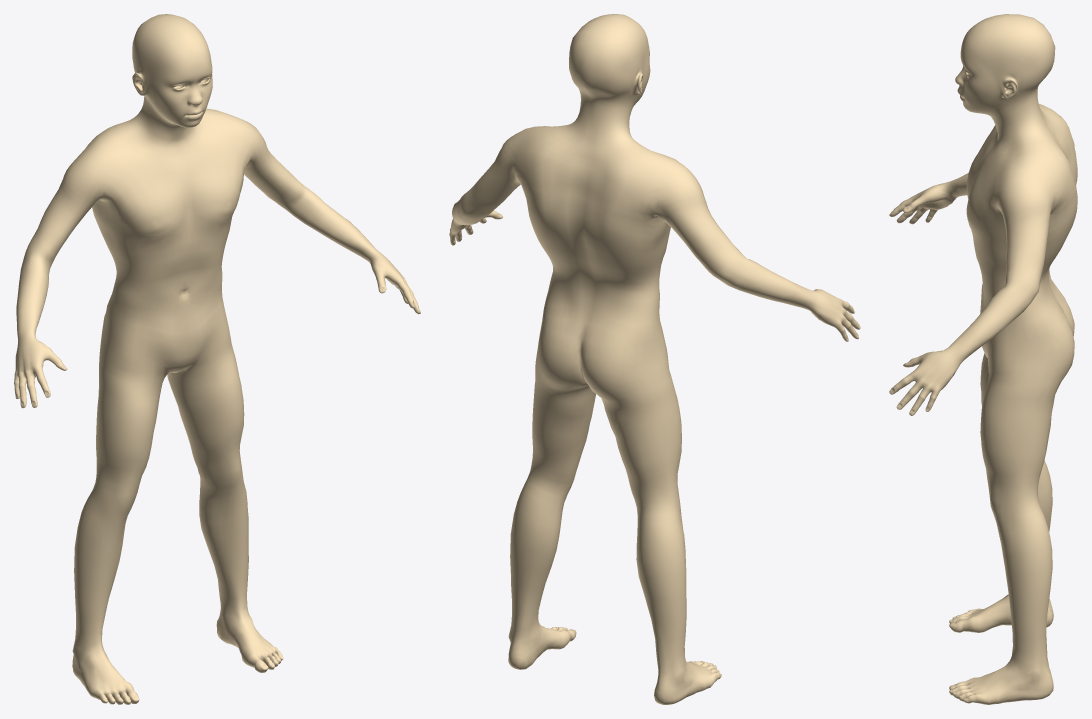
3 renders of one model, left to right at view 1: azimuth 30°, elevation 25°; view 2: azimuth 150°, elevation 25°; view 3: azimuth 270°, elevation 25°, orthographic.
Parts seen in each view (by area): view 1: Human; view 2: Human; view 3: Human.
Part boxes in pixels (box(x1,y1,x2,y2)): Human: box(14, 14, 420, 704); Human: box(449, 14, 860, 704); Human: box(889, 14, 1077, 704).
Size of the model in its own units: 0.9203 by 1.44 by 0.3797.
